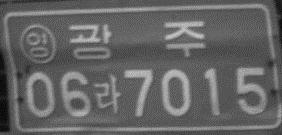0: (159, 67, 191, 117), (24, 71, 55, 119)
1: (196, 66, 229, 116)
5: (235, 67, 269, 116)
6: (59, 71, 91, 118)
7: (124, 69, 153, 116)
광주_D: (68, 20, 206, 61)
라: (93, 73, 122, 113)
영: (19, 23, 56, 64)
